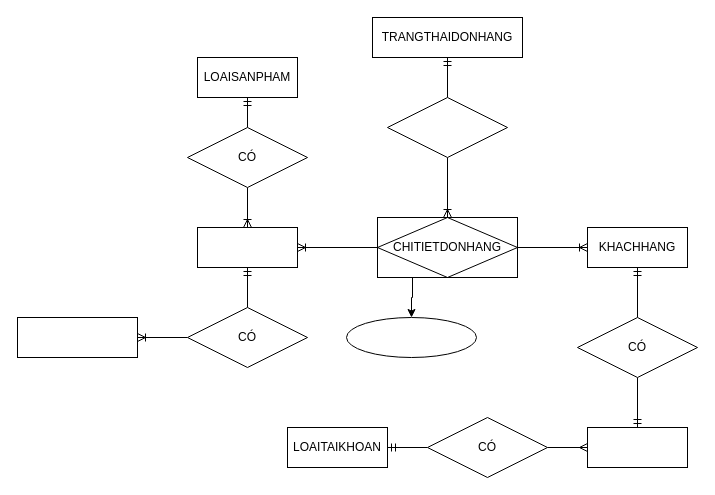
The diagram is 715 pixels wide and 495 high, and some of its shapes have lost their labels. The centre of each missing label's shape, as x and y in pixels:
CHITIETSANPHAM: the point at 77,337
CỦA: the point at 447,127
SANPHAM: the point at 247,247
TAIKHOAN: the point at 637,447
THOIDIEMDATHANG: the point at 411,337
